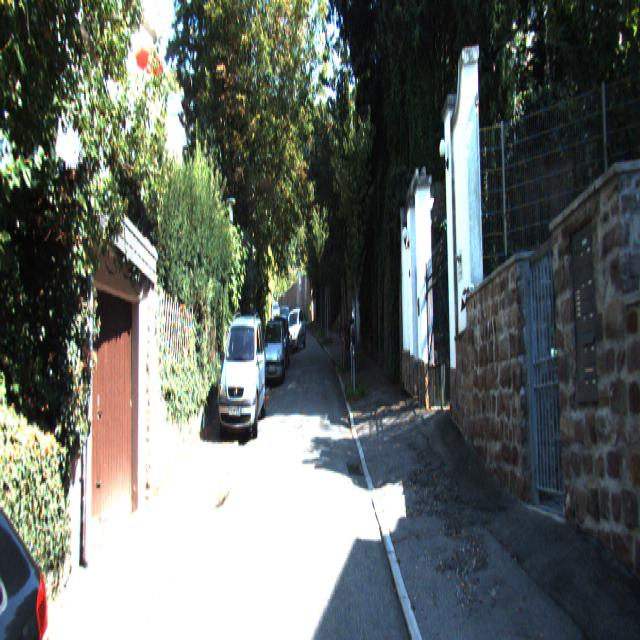Car: (0, 419, 66, 639), (218, 309, 266, 444), (262, 316, 286, 387), (284, 306, 306, 352)
